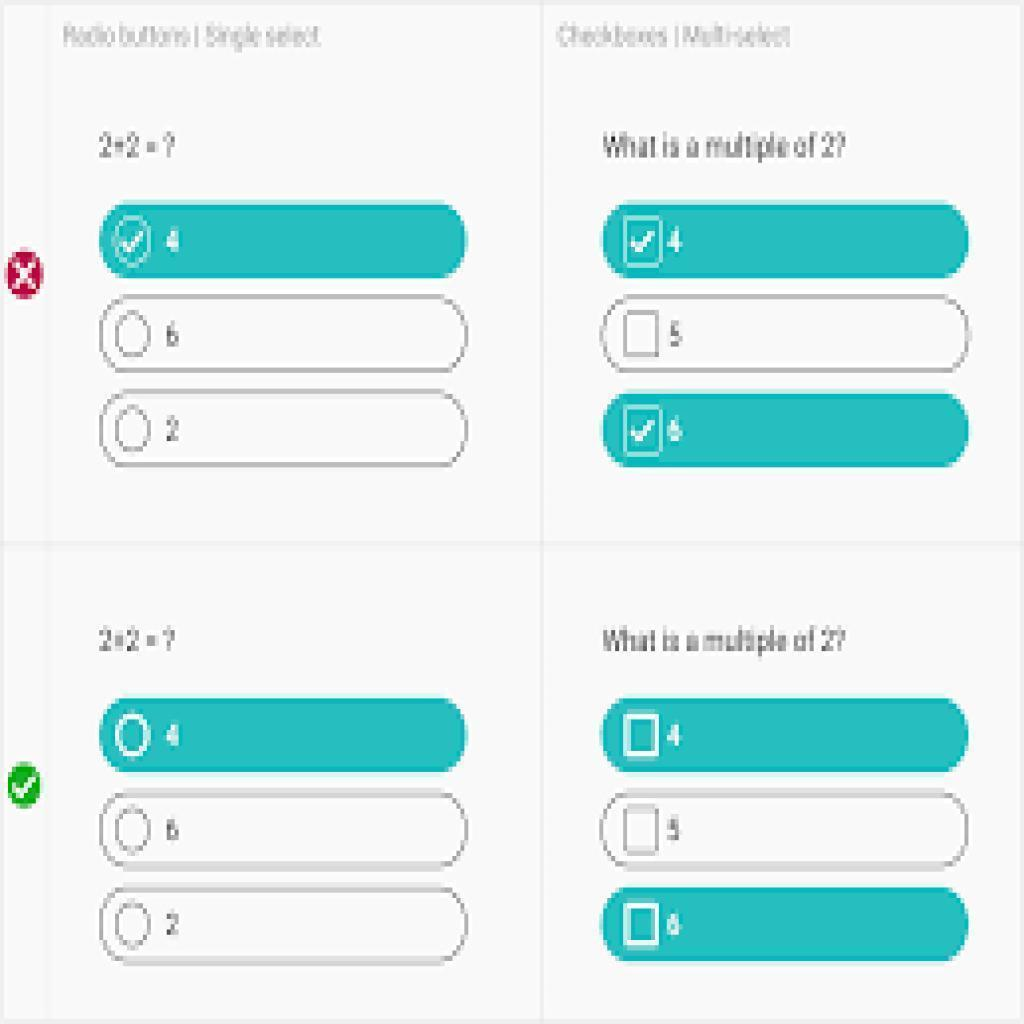checkbox: (113, 214, 153, 267), (113, 309, 154, 359), (624, 404, 663, 455), (116, 404, 152, 457), (623, 311, 661, 358), (621, 806, 659, 853), (622, 711, 660, 756), (626, 218, 659, 265), (625, 902, 659, 945)
radio: (113, 897, 153, 948), (115, 807, 155, 855), (116, 712, 153, 761)
